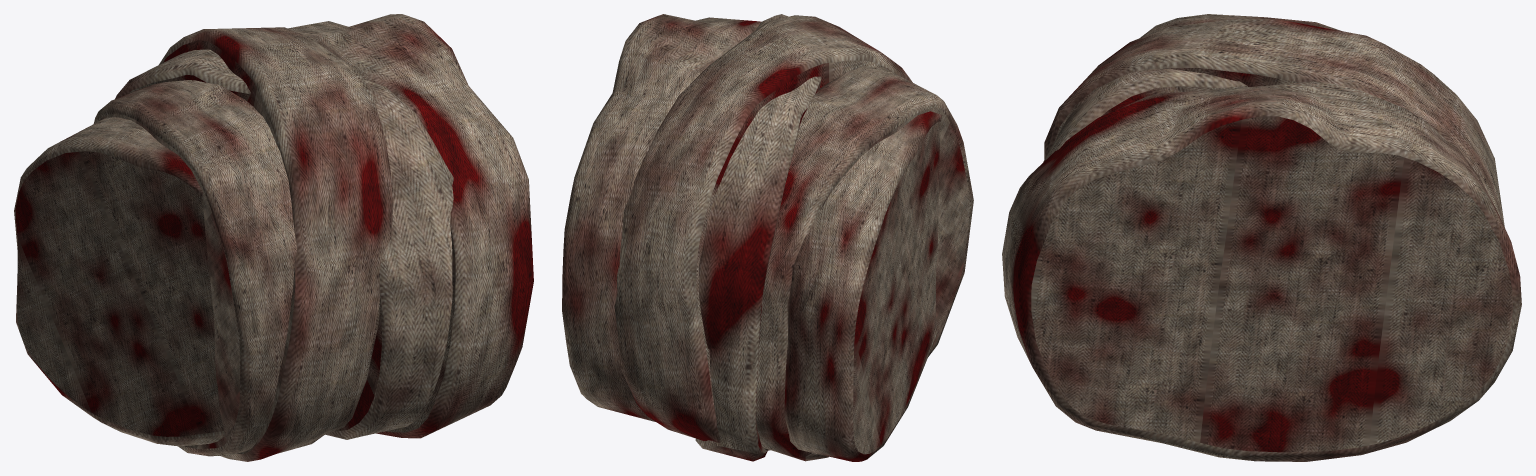
The model's file is Bandage.fbx.
The picture shows the model from 3 angles, left to right: view 1: azimuth 30°, elevation 25°; view 2: azimuth 150°, elevation 25°; view 3: azimuth 270°, elevation 25°; orthographic projection. The views are drawn at different scales.
Parts seen in each view (by area): view 1: VBOT_:VBOT_LOD0.001, VBOT_:VBOT_LOD0.003, VBOT_:VBOT_LOD0.000, VBOT_:VBOT_LOD0.004, VBOT_:VBOT_LOD0.002; view 2: VBOT_:VBOT_LOD0.001, VBOT_:VBOT_LOD0.003, VBOT_:VBOT_LOD0.000, VBOT_:VBOT_LOD0.004, VBOT_:VBOT_LOD0.002; view 3: VBOT_:VBOT_LOD0.000, VBOT_:VBOT_LOD0.003, VBOT_:VBOT_LOD0.002, VBOT_:VBOT_LOD0.004.
Boxes of the visible parts, box(x1,y1,x2,y2) form: VBOT_:VBOT_LOD0.001: box(14, 117, 225, 446); VBOT_:VBOT_LOD0.003: box(159, 27, 392, 461); VBOT_:VBOT_LOD0.000: box(288, 14, 533, 438); VBOT_:VBOT_LOD0.004: box(93, 80, 296, 456); VBOT_:VBOT_LOD0.002: box(115, 49, 453, 439); VBOT_:VBOT_LOD0.001: box(784, 111, 942, 461); VBOT_:VBOT_LOD0.003: box(614, 15, 912, 450); VBOT_:VBOT_LOD0.000: box(562, 14, 761, 421); VBOT_:VBOT_LOD0.004: box(756, 66, 973, 461); VBOT_:VBOT_LOD0.002: box(695, 14, 821, 461); VBOT_:VBOT_LOD0.000: box(1002, 81, 1521, 461); VBOT_:VBOT_LOD0.003: box(1044, 18, 1504, 226); VBOT_:VBOT_LOD0.002: box(1043, 28, 1326, 161); VBOT_:VBOT_LOD0.004: box(1140, 14, 1340, 37).
Bounding box in the file's own units: 12.07 × 13.75 × 16.1.
1 material, 1 textured.
